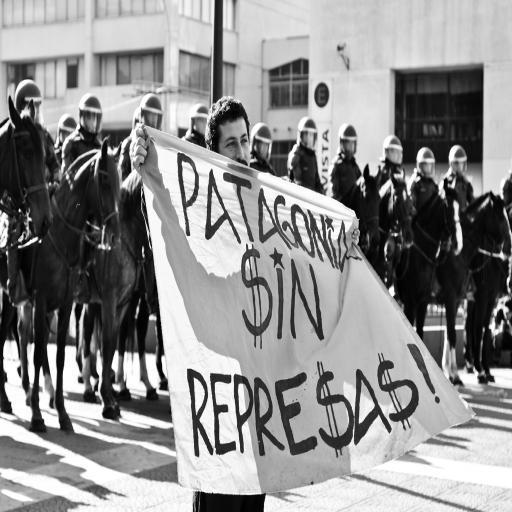horse: (0, 132, 123, 432), (74, 171, 153, 422), (0, 95, 54, 220)
